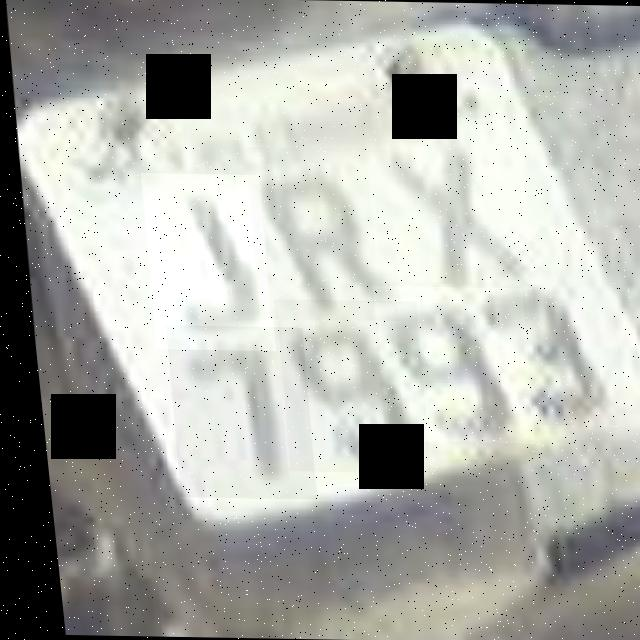3: (451, 266, 621, 436)
7: (156, 325, 309, 499)
9: (266, 298, 423, 474), (365, 285, 528, 443)
J: (134, 172, 271, 350)
R: (239, 146, 397, 321)
X: (358, 115, 531, 284)
